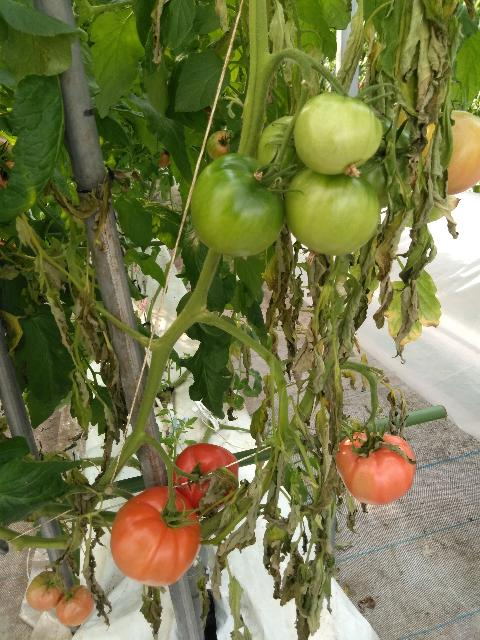b_fully_ripened: (171, 442, 239, 516)
b_green: (190, 153, 286, 256), (285, 167, 381, 256), (294, 92, 384, 175), (350, 119, 423, 210), (255, 116, 306, 197)
b_half_ripened: (110, 486, 201, 587), (392, 105, 480, 196), (335, 432, 416, 506), (55, 585, 95, 627), (25, 571, 65, 612), (206, 130, 234, 160)
